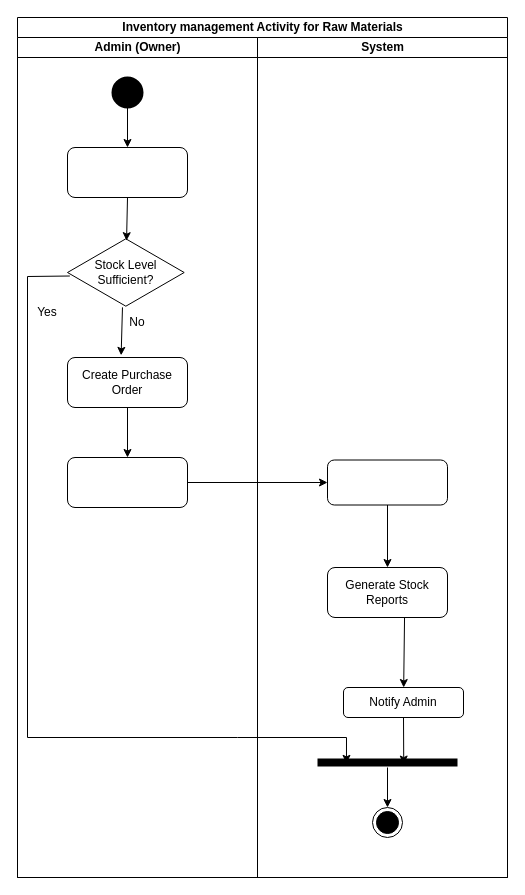
This 525x895 diagram has some shape labels left out. Each missing label, with the centre of its shape:
"Add Raw Materials" belongs at pixel 127 482.
"checks stock" belongs at pixel 127 172.
"Update Inventory" belongs at pixel 387 482.
